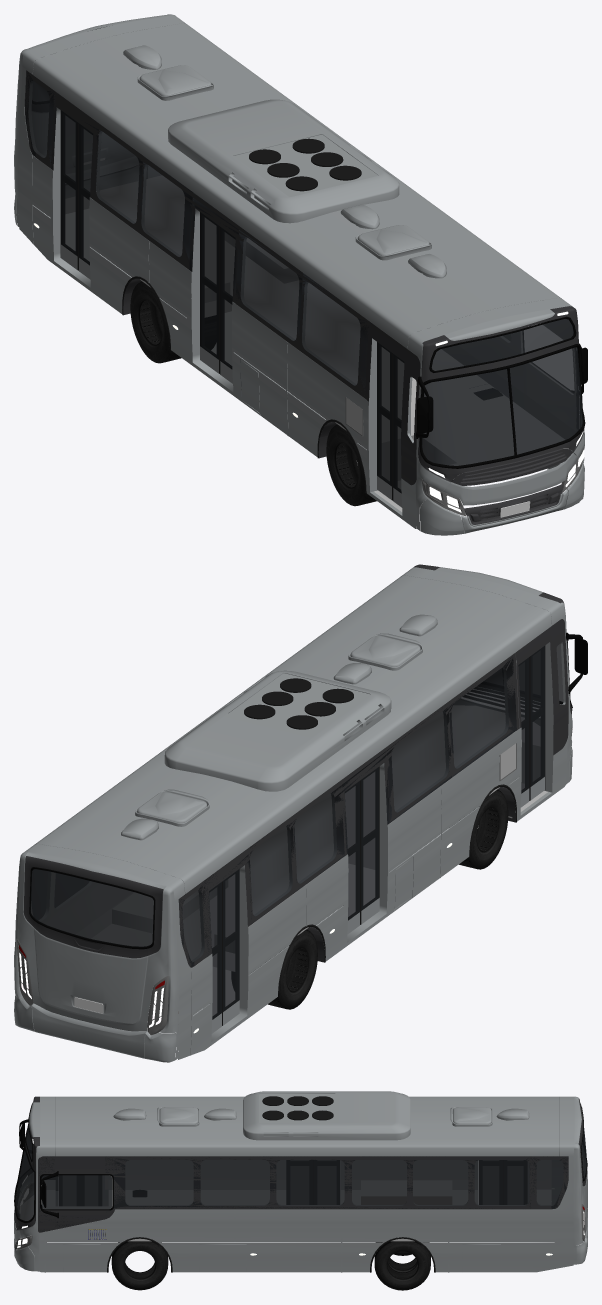
The model's file is urbano_classico.glb.
The picture shows the model from 3 angles, top to bottom: view 1: azimuth 30°, elevation 25°; view 2: azimuth 150°, elevation 25°; view 3: azimuth 270°, elevation 25°; orthographic projection. The views are drawn at different scales.
Parts seen in each view (by area): view 1: carroceria, porta_meio_b, porta_tras_b, porta_frente_b, roda_traseira_dir, roda_dianteira_dir, porta_meio_a, porta_tras_a, porta_frente_a; view 2: carroceria, porta_meio_a, porta_tras_a, porta_frente_a, roda_traseira_dir, roda_dianteira_dir, porta_meio_b, porta_tras_b, porta_frente_b; view 3: carroceria, roda_traseira_esq, roda_dianteira_esq, porta_meio_a, porta_meio_b, porta_tras_b, porta_tras_a, porta_frente_a, porta_frente_b.
Part boxes in pixels (x1,y1,x2,y2): carroceria: [14, 14, 587, 535]; porta_meio_b: [191, 208, 219, 373]; porta_tras_b: [50, 107, 78, 270]; porta_frente_b: [368, 338, 392, 500]; roda_traseira_dir: [130, 281, 215, 363]; roda_dianteira_dir: [326, 424, 376, 506]; porta_meio_a: [219, 226, 239, 383]; porta_tras_a: [79, 123, 96, 279]; porta_frente_a: [393, 353, 410, 507]; carroceria: [14, 564, 587, 1062]; porta_meio_a: [360, 763, 387, 924]; porta_tras_a: [222, 865, 248, 1025]; porta_frente_a: [516, 642, 553, 800]; roda_traseira_dir: [232, 929, 317, 1009]; roda_dianteira_dir: [454, 789, 508, 869]; porta_meio_b: [343, 781, 359, 934]; porta_tras_b: [207, 882, 221, 1041]; porta_frente_b: [515, 657, 529, 807]; carroceria: [14, 1091, 587, 1272]; roda_traseira_esq: [374, 1241, 430, 1290]; roda_dianteira_esq: [111, 1241, 168, 1290]; porta_meio_a: [287, 1160, 312, 1204]; porta_meio_b: [314, 1160, 339, 1204]; porta_tras_b: [504, 1160, 528, 1204]; porta_tras_a: [479, 1160, 502, 1204]; porta_frente_a: [59, 1176, 79, 1205]; porta_frente_b: [81, 1176, 101, 1205].
Bounding box in the file's own units: 2.66 × 3.19 × 10.54.
Materials: 15 (11 with a texture image).
